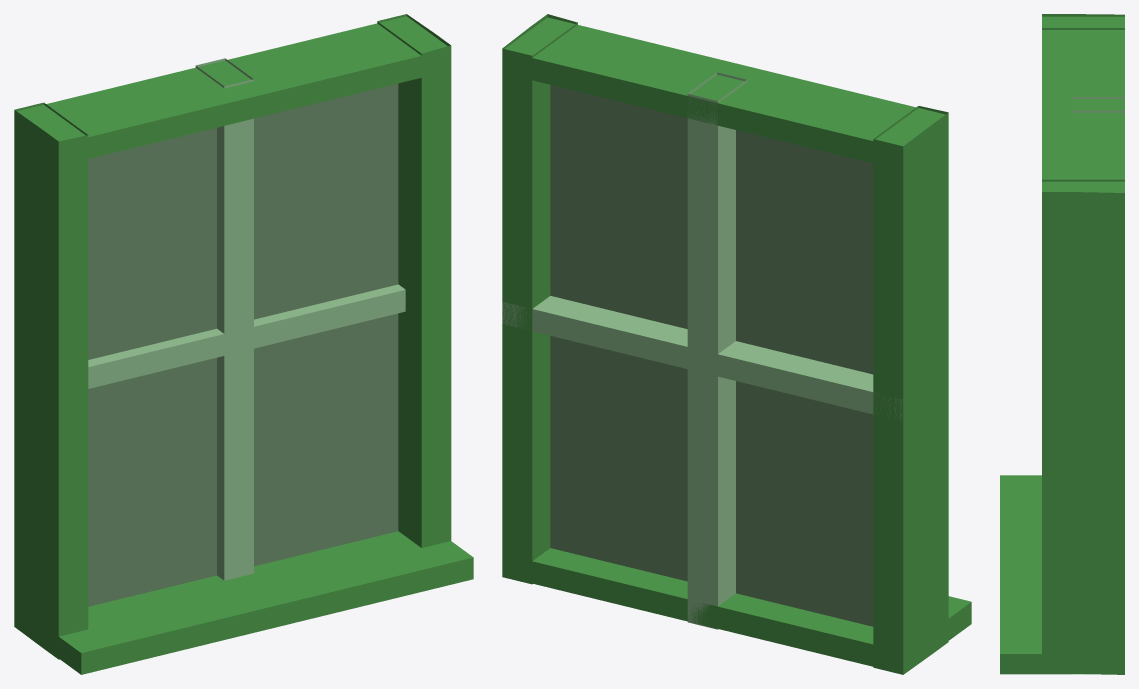
The model's file is SM_WindowFrame.fbx.
3 views of the same model, side by side, from view 1: azimuth 30°, elevation 25°; view 2: azimuth 150°, elevation 25°; view 3: azimuth 270°, elevation 25° (orthographic). The views are drawn at different scales.
Visible parts, largest first — view 1: SM_WindowFrame; view 2: SM_WindowFrame; view 3: SM_WindowFrame.
Part boxes in pixels (bbox=[...]): SM_WindowFrame: bbox=[14, 14, 473, 674]; SM_WindowFrame: bbox=[502, 14, 971, 674]; SM_WindowFrame: bbox=[1000, 14, 1124, 674].
Size of the model in its own units: 110 by 139 by 32.48.
